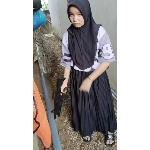Senapan: (49, 75, 71, 121)
